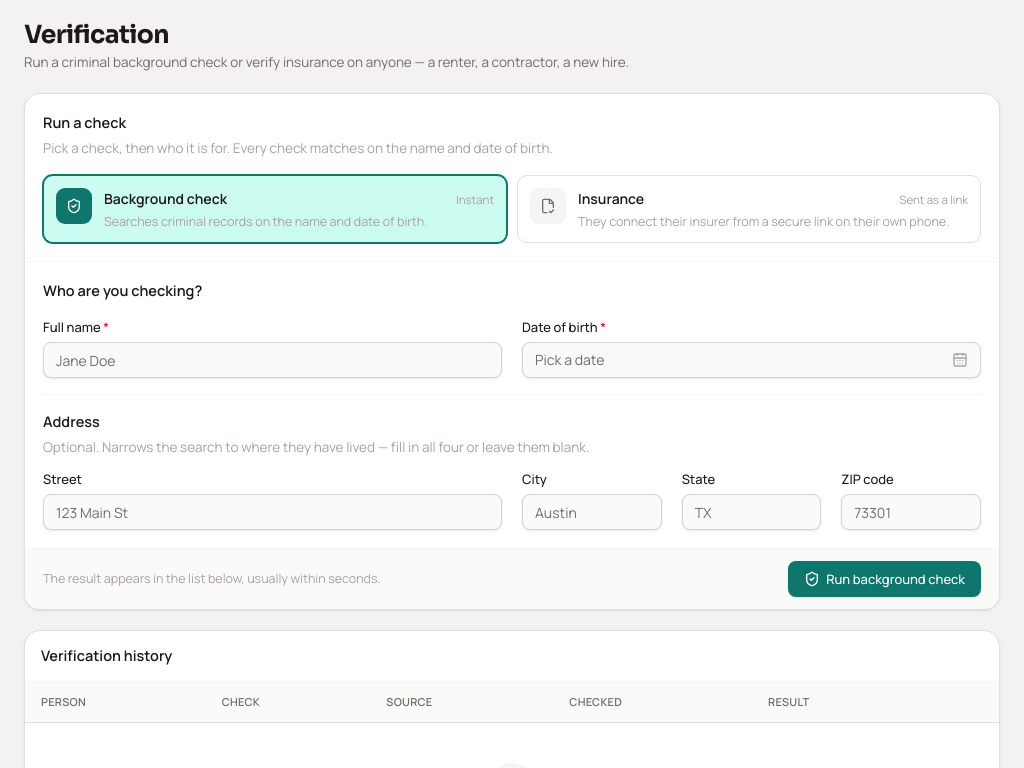
Scenario: the verification form › asks only for what the insurance check needs once it is picked
Click the radio button labelled "Insurance".
click(548, 206)  # box x1=517 y1=175 x2=981 y2=243
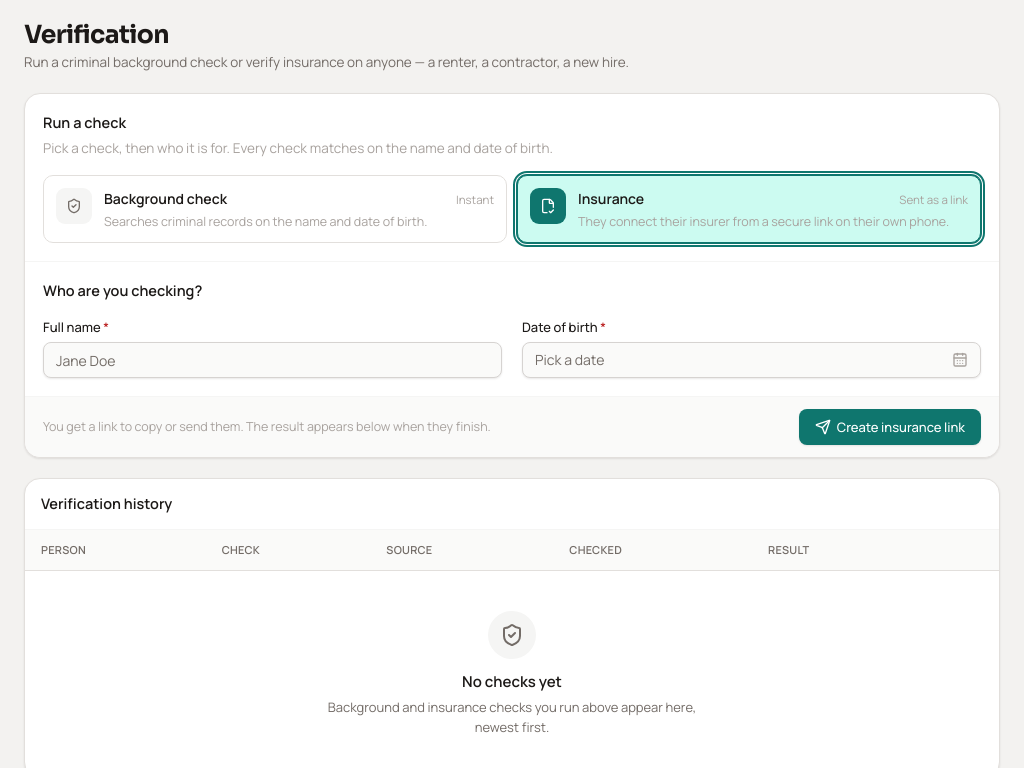
expect the label labelled "Street" is gone: met
expect the button "Run background check" is gone: met
expect the button "Create insurance link" is shown: met, box x1=799 y1=409 x2=981 y2=445
